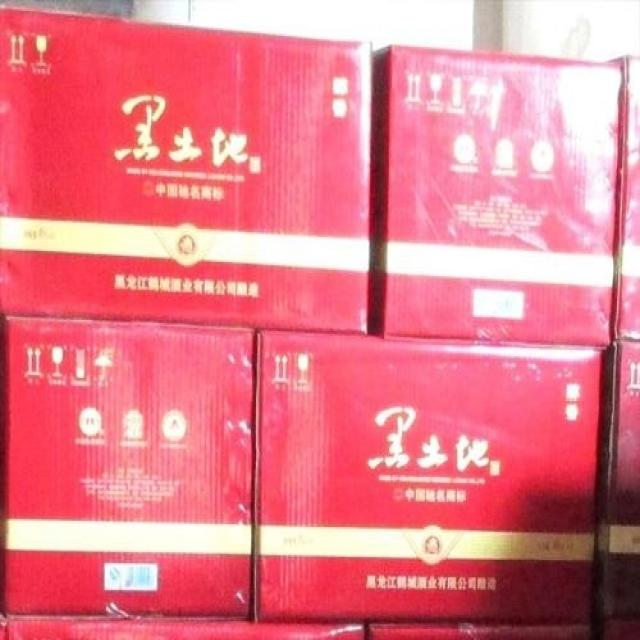box: (0, 6, 372, 335), (251, 332, 602, 621), (367, 44, 623, 348), (1, 317, 258, 618), (595, 338, 639, 618), (602, 55, 639, 340), (0, 614, 367, 638), (366, 623, 595, 638), (602, 616, 639, 638)
